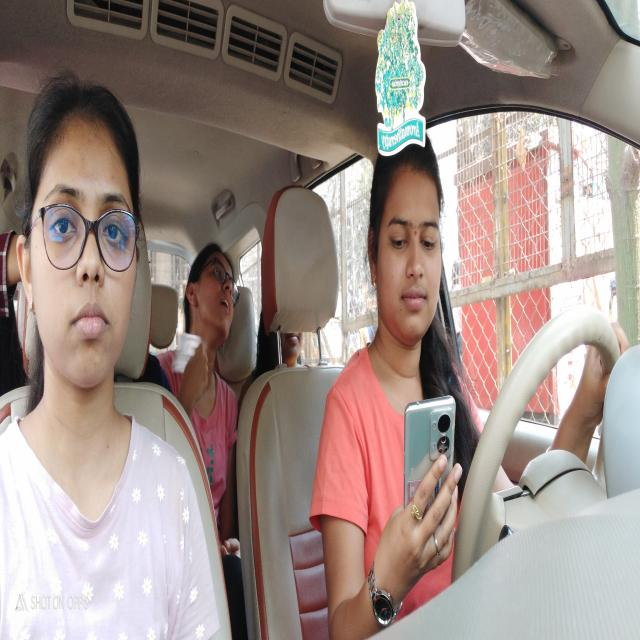mobile: (400, 398, 457, 544)
person: (26, 78, 137, 392), (373, 140, 443, 336), (196, 248, 242, 352), (260, 321, 310, 363)
